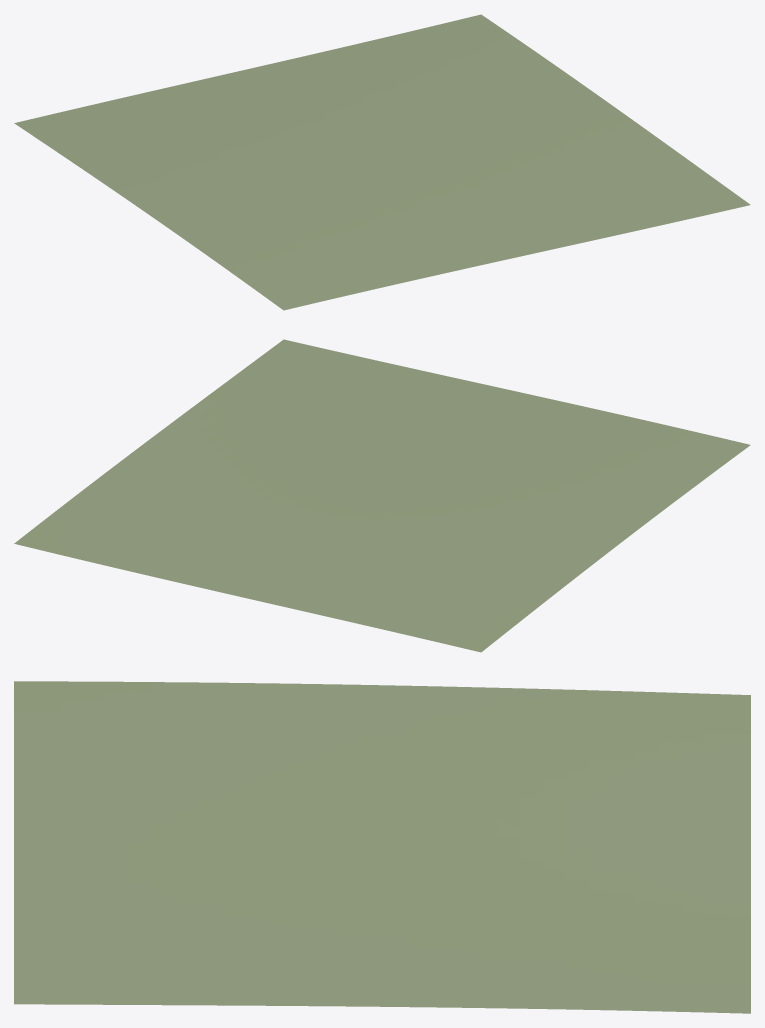
The model's file is expanse-0-11.glb.
3 views of the same model, one above another, from view 1: azimuth 30°, elevation 25°; view 2: azimuth 150°, elevation 25°; view 3: azimuth 270°, elevation 25° (orthographic). The views are drawn at different scales.
Visible parts, largest first — view 1: expanse-0-11; view 2: expanse-0-11; view 3: expanse-0-11.
Part boxes in pixels (x1,y1,x2,y2): expanse-0-11: (14, 14, 750, 310); expanse-0-11: (14, 339, 750, 652); expanse-0-11: (14, 681, 750, 1013).
Bounding box in the file's own units: 256 × 8.04 × 256.
